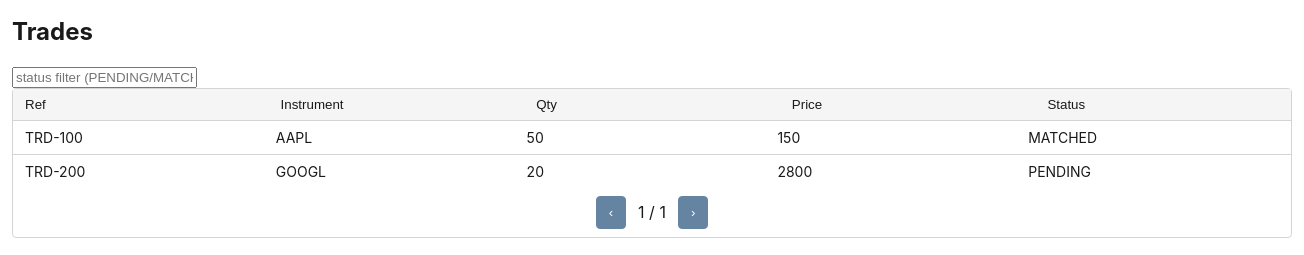
Scenario: <Trades> › selects trade row when clicked
The width and height of the screenshot is (1304, 255).
Click the row with test id "trade-row-1" at (54, 137), box [25, 129, 1097, 146]
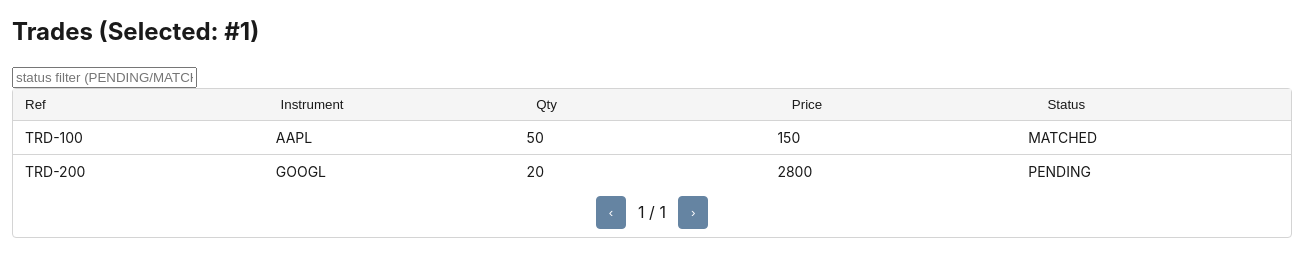
Result: the text "(Selected: #1)" is shown at [99, 17, 259, 46]
